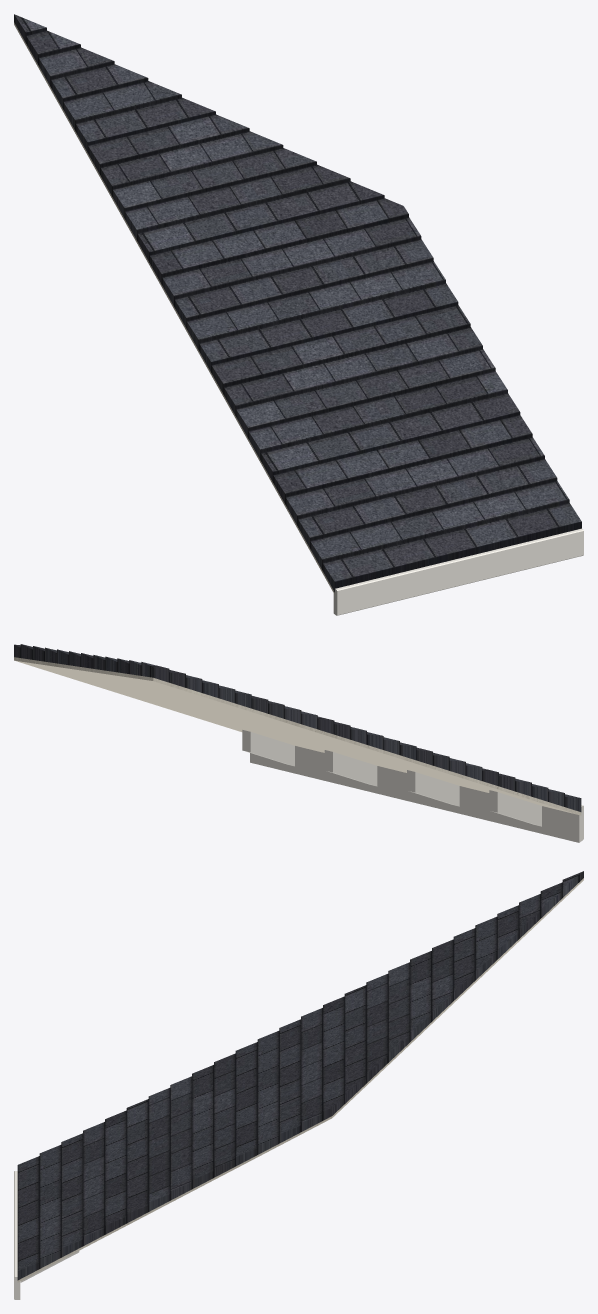
Rendered from roof_main_4_porch.glb.
3 renders of one model, top to bottom at view 1: azimuth 30°, elevation 25°; view 2: azimuth 150°, elevation 25°; view 3: azimuth 270°, elevation 25°, orthographic. The views are drawn at different scales.
Visible parts, largest first — view 1: roof_main_4_porch_shingles, roof_main_4_porch_trim, roof_main_4_porch_plaster; view 2: roof_main_4_porch_trim, roof_main_4_porch_plaster, roof_main_4_porch_shingles; view 3: roof_main_4_porch_shingles, roof_main_4_porch_plaster, roof_main_4_porch_trim.
Boxes of the visible parts, x1,y1,x2,y2 form: roof_main_4_porch_shingles: (14,14,581,592); roof_main_4_porch_trim: (333,528,583,615); roof_main_4_porch_plaster: (14,22,334,594); roof_main_4_porch_trim: (242,730,583,842); roof_main_4_porch_plaster: (14,657,581,815); roof_main_4_porch_shingles: (14,644,581,811); roof_main_4_porch_shingles: (17,871,583,1280); roof_main_4_porch_plaster: (17,878,583,1282); roof_main_4_porch_trim: (14,1171,79,1299).
Size of the model in its own units: 2 by 2.83 by 4.53.
Materials: 3 (2 with a texture image).
